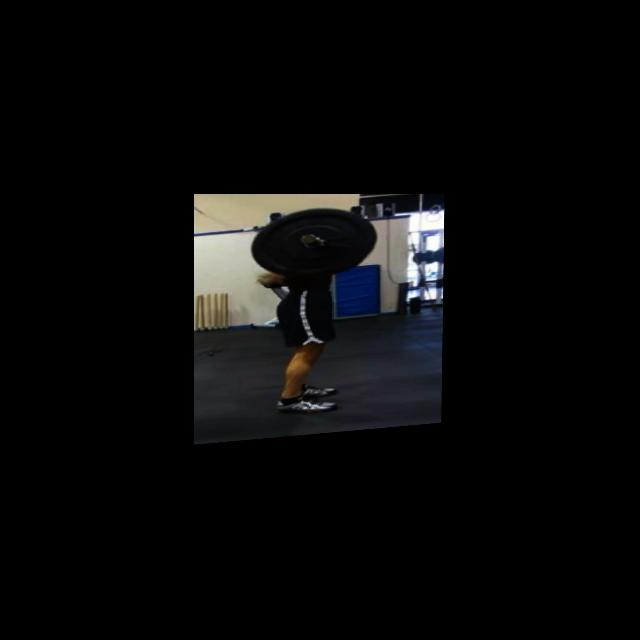barbell: (247, 204, 377, 285)
